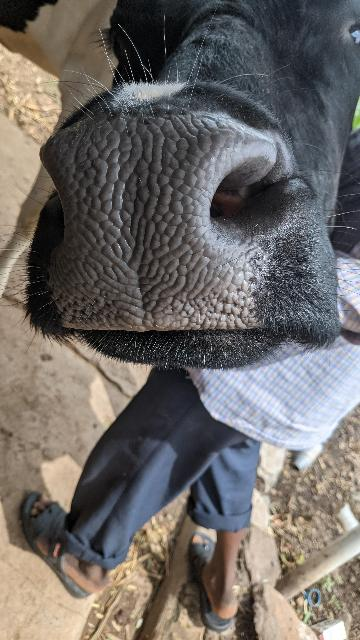Muzzle: (41, 120, 252, 334)
